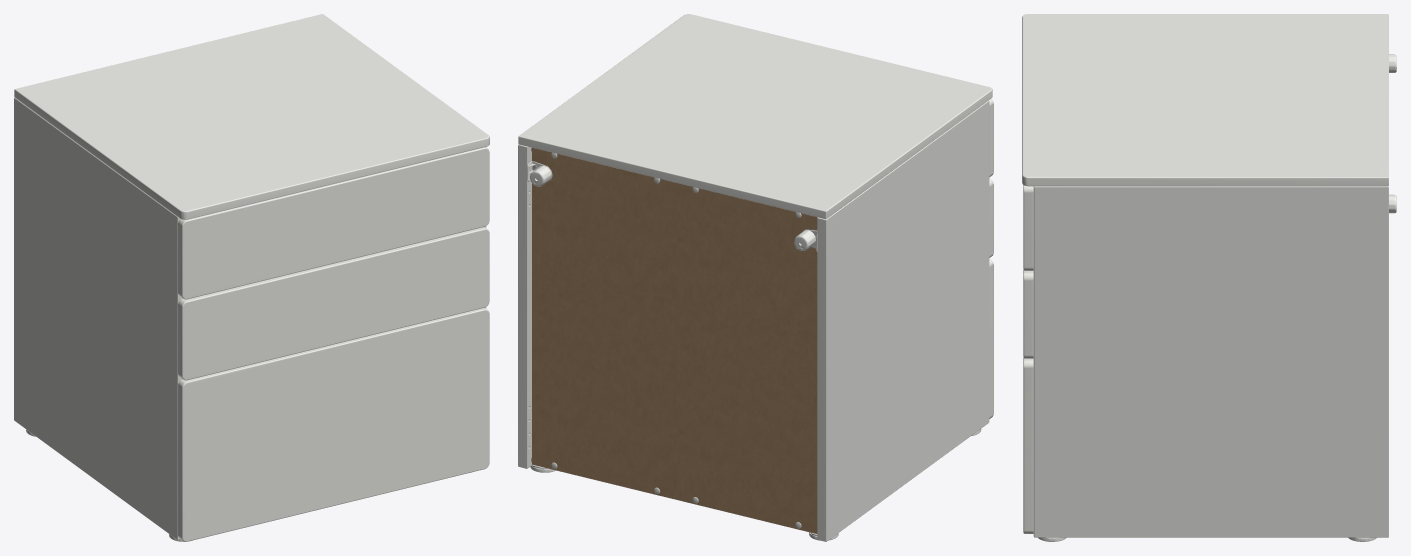
File: smastad_platsa_komoda_3_szuflady_99387521.glb
3 views of the same model, side by side, from view 1: azimuth 30°, elevation 25°; view 2: azimuth 150°, elevation 25°; view 3: azimuth 270°, elevation 25° (orthographic). The views are drawn at different scales.
Visible parts, largest first — view 1: smastad_platsa_komoda_3_szuflady_99387521; view 2: smastad_platsa_komoda_3_szuflady_99387521; view 3: smastad_platsa_komoda_3_szuflady_99387521.
Part boxes in pixels (box(x1,y1,x2,y2)): smastad_platsa_komoda_3_szuflady_99387521: box(14, 14, 489, 541); smastad_platsa_komoda_3_szuflady_99387521: box(518, 14, 993, 541); smastad_platsa_komoda_3_szuflady_99387521: box(1022, 14, 1396, 541).
Bounding box in the file's own units: 0.6 × 0.6256 × 0.58.
1 material, 1 textured.
